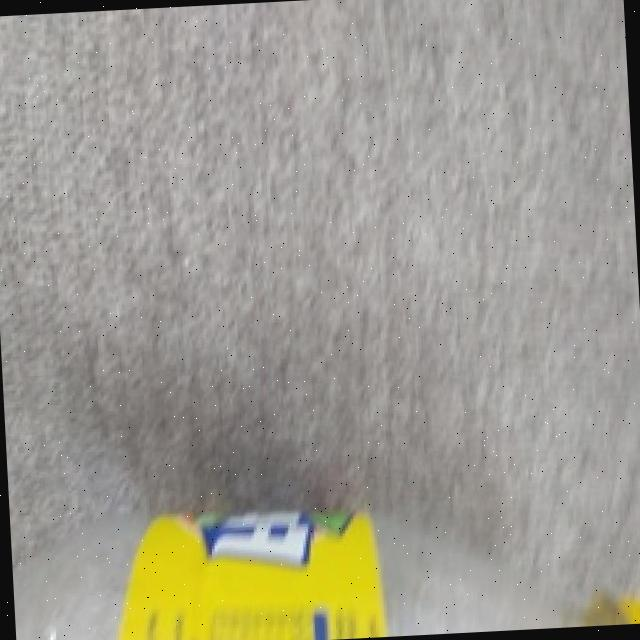bottle: (10, 491, 640, 640)
label: (109, 490, 390, 640)
